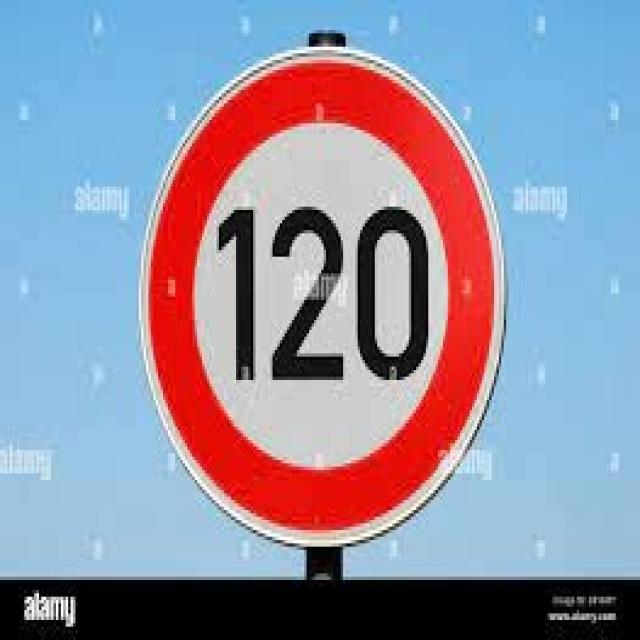speed_limit_120: (138, 43, 510, 556)
